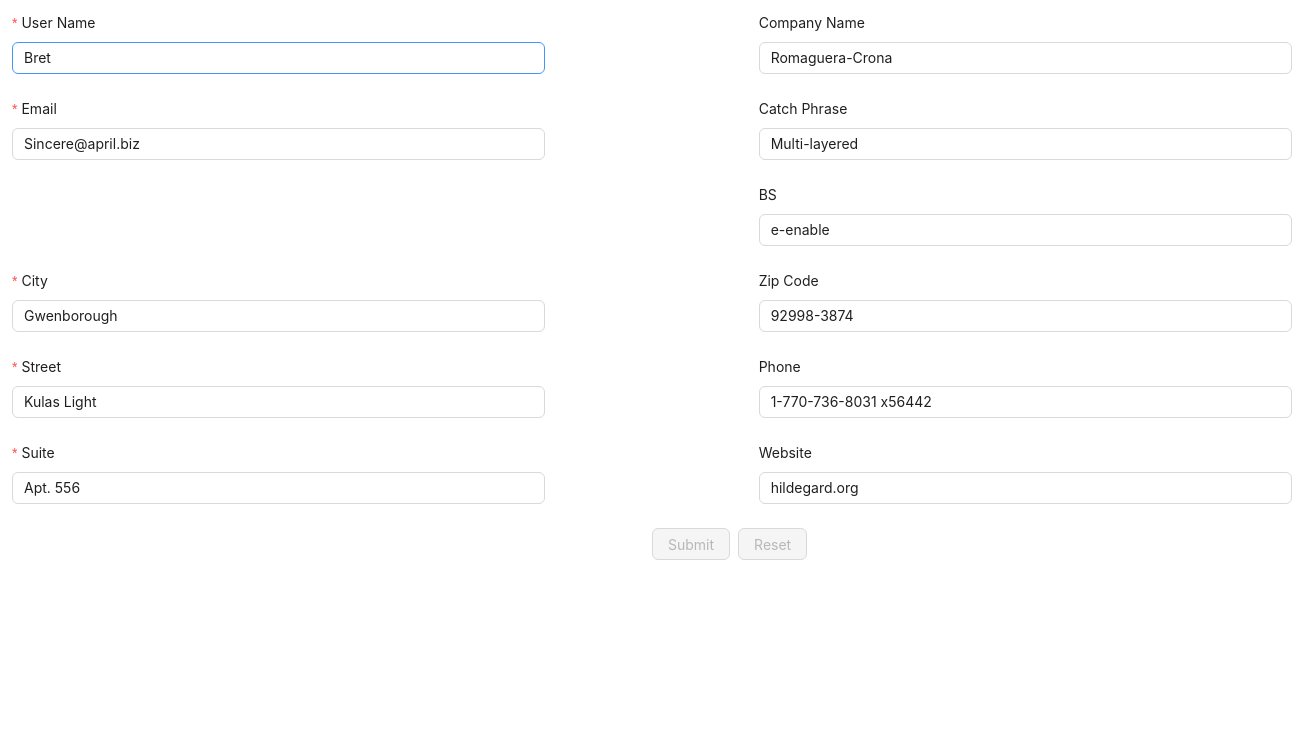
UserForm › resets the form to initial values and disables buttons after Reset
# change value
Replace the text in the field labelled "User Name" with "NewName" at (279, 58), box [12,42,545,74]
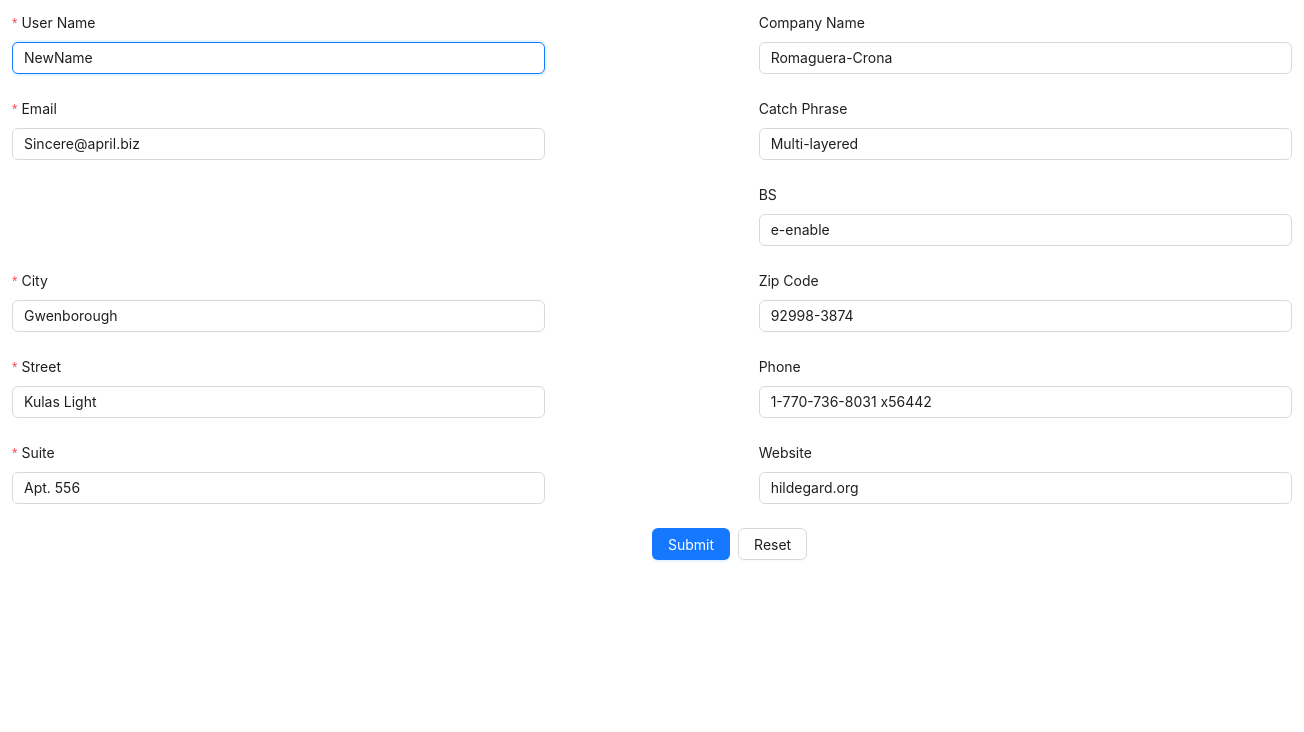
Check: the button "Submit" is enabled, box [652,528,730,560]
Check: the button "Reset" is enabled
Click the button "Reset".
click(773, 544)  # box [738,528,807,560]
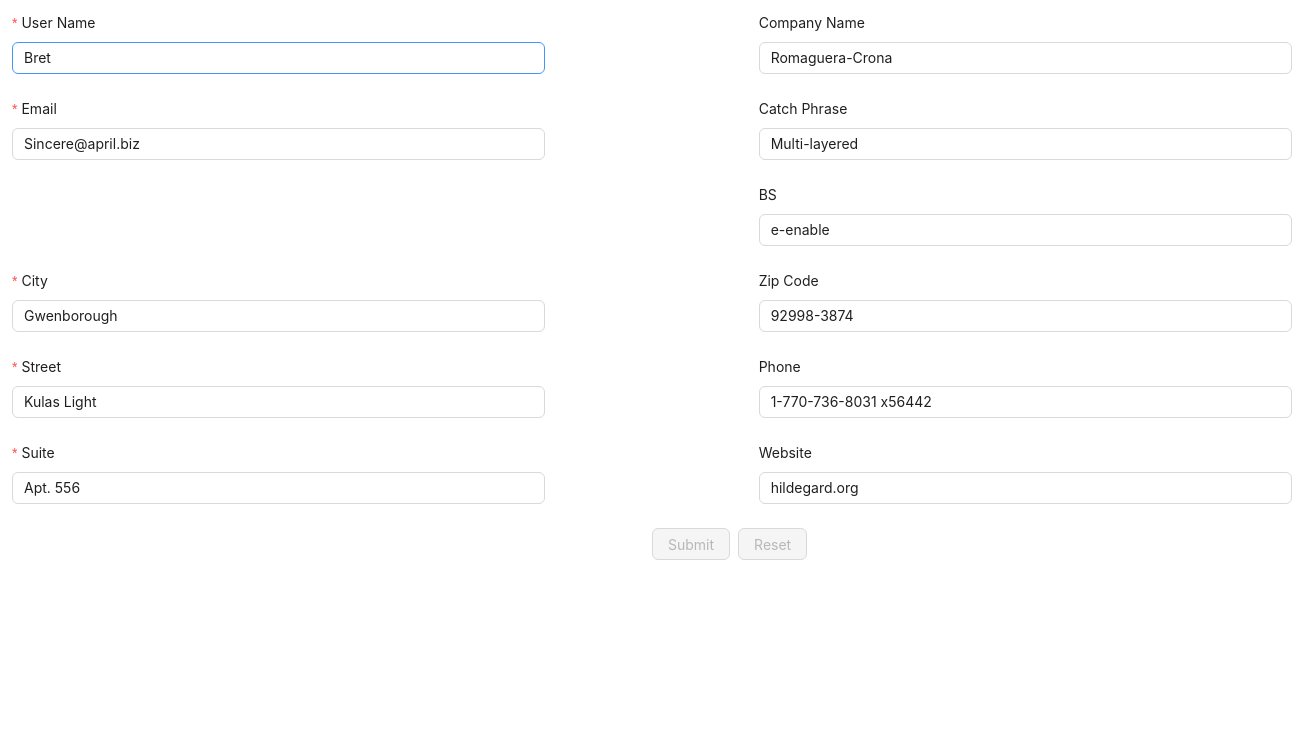
Check: the field labelled "User Name" holds "Bret", box [12,42,545,74]
Check: the button "Submit" is disabled, box [652,528,730,560]
Check: the button "Reset" is disabled, box [738,528,807,560]
